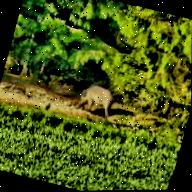boar: (65, 75, 123, 126)
